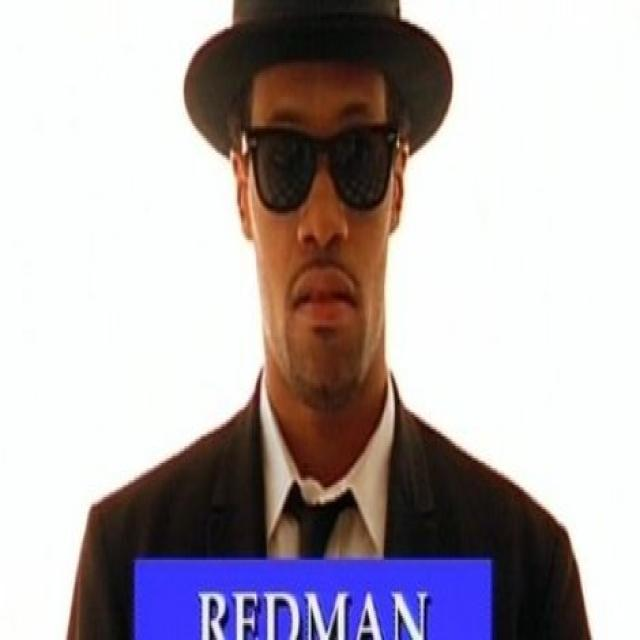mobile_phonerotation: (128, 552, 497, 638)
